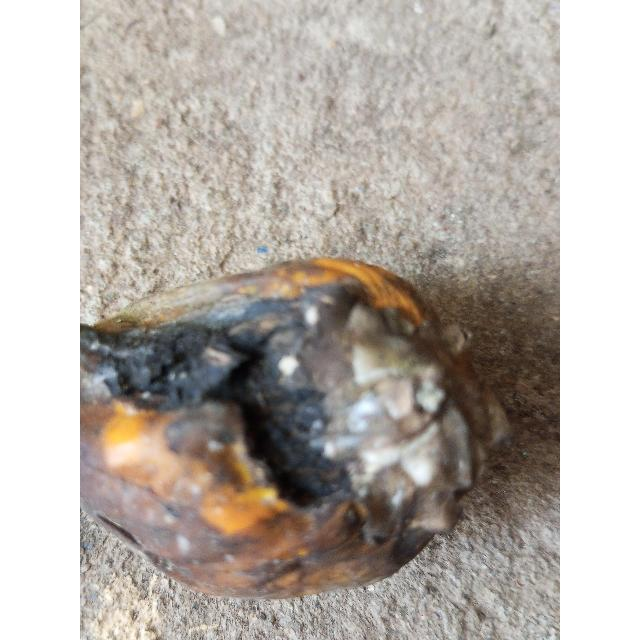damaged: (80, 257, 511, 603)
